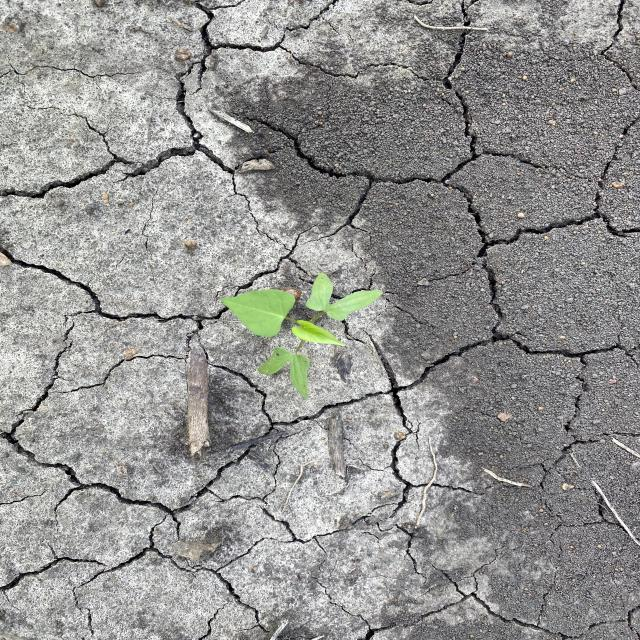MorningGlory: (218, 272, 386, 401)
